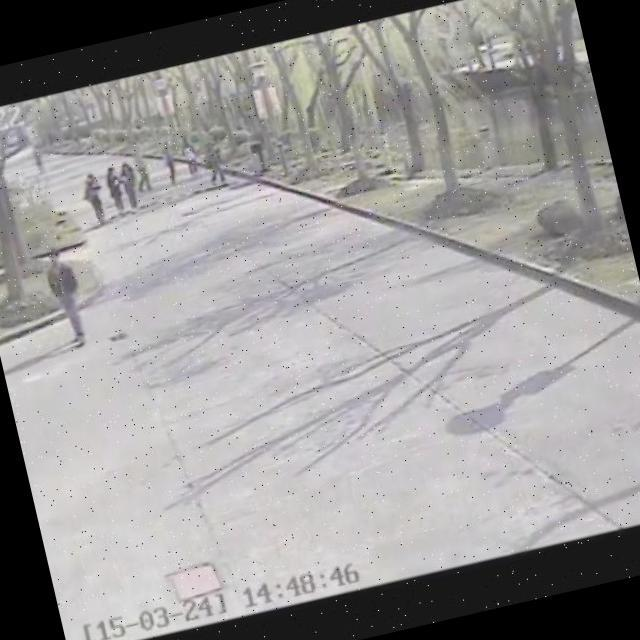person: (34, 237, 96, 356), (74, 163, 114, 230), (97, 158, 133, 222), (124, 134, 158, 197), (115, 155, 144, 218), (156, 135, 184, 190), (176, 132, 203, 179)
